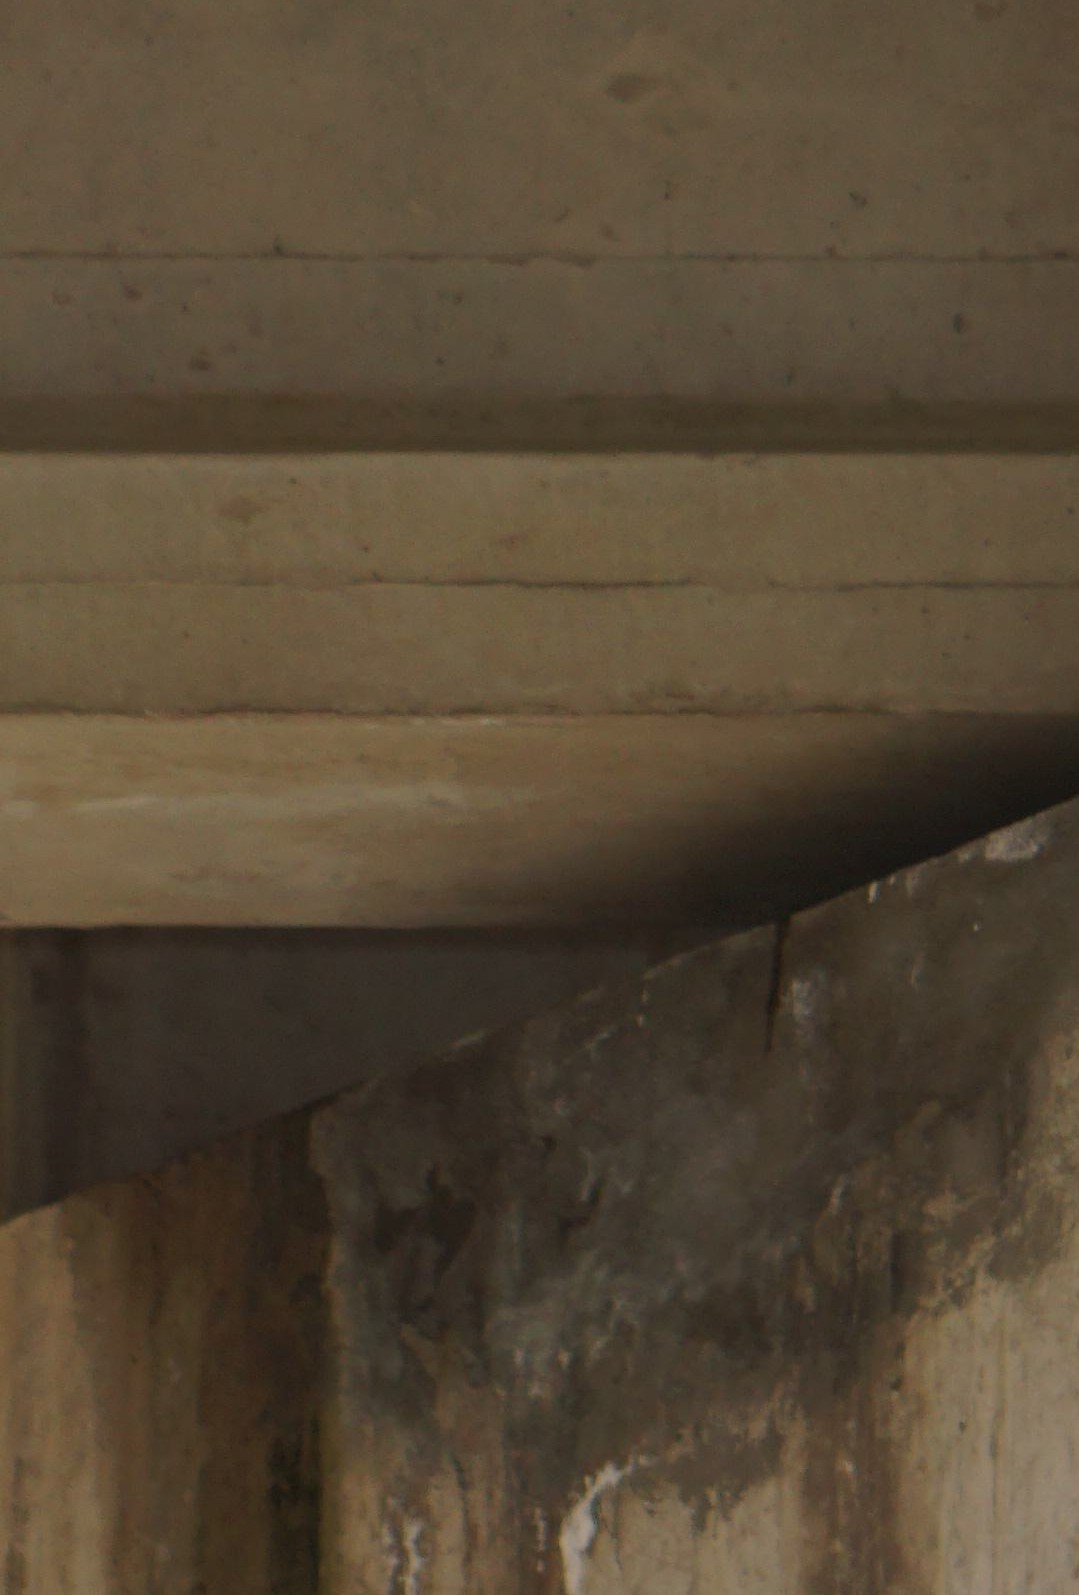Corrosion: (1, 790, 1079, 1595)
